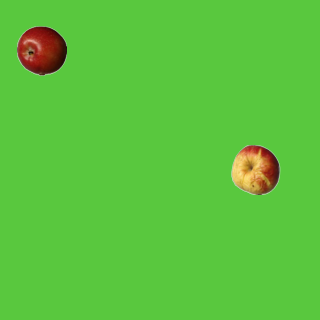Apple Braeburn: (16, 25, 66, 75)
Apple Red Yellow 1: (230, 144, 280, 194)
